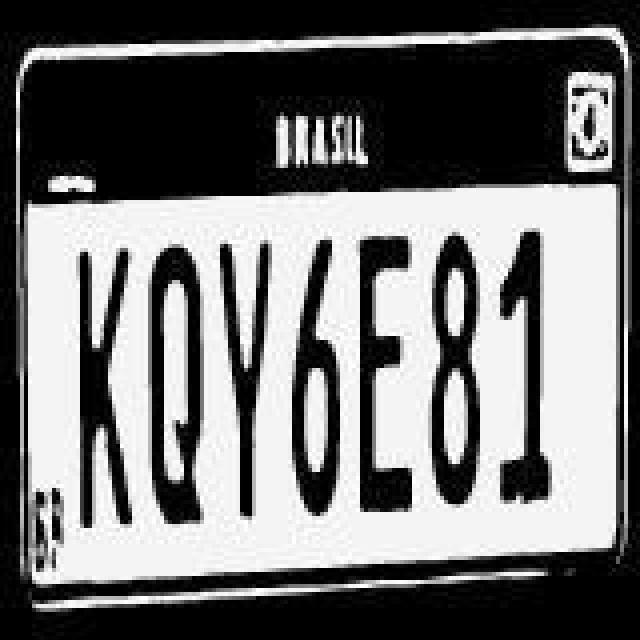1: (496, 224, 560, 512)
6: (284, 230, 348, 522)
8: (426, 228, 486, 516)
E: (350, 224, 418, 520)
K: (72, 244, 136, 532)
Q: (142, 242, 210, 526)
Y: (212, 236, 276, 524)
